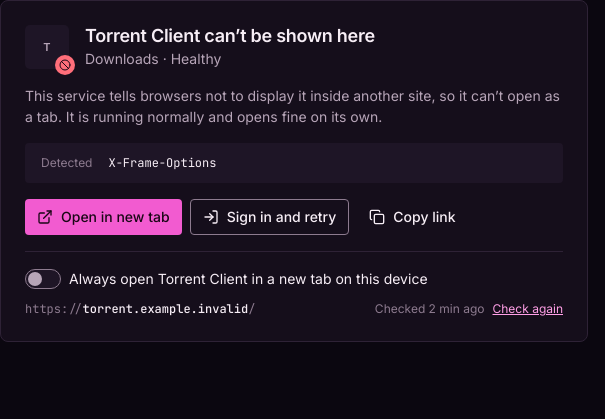
Test: FallbackCard › "Copy link" in the card selects the address in a read-only field
Click the button "Copy link" at [412, 217], box [357,199,468,235]
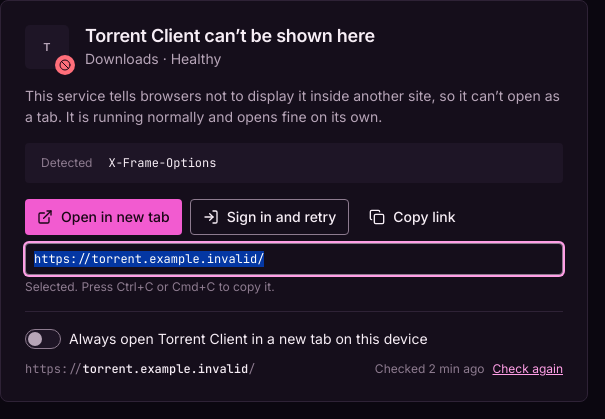
Expected: the field named "Link" holds "https://torrent.example.invalid/", [25,243,563,275]
